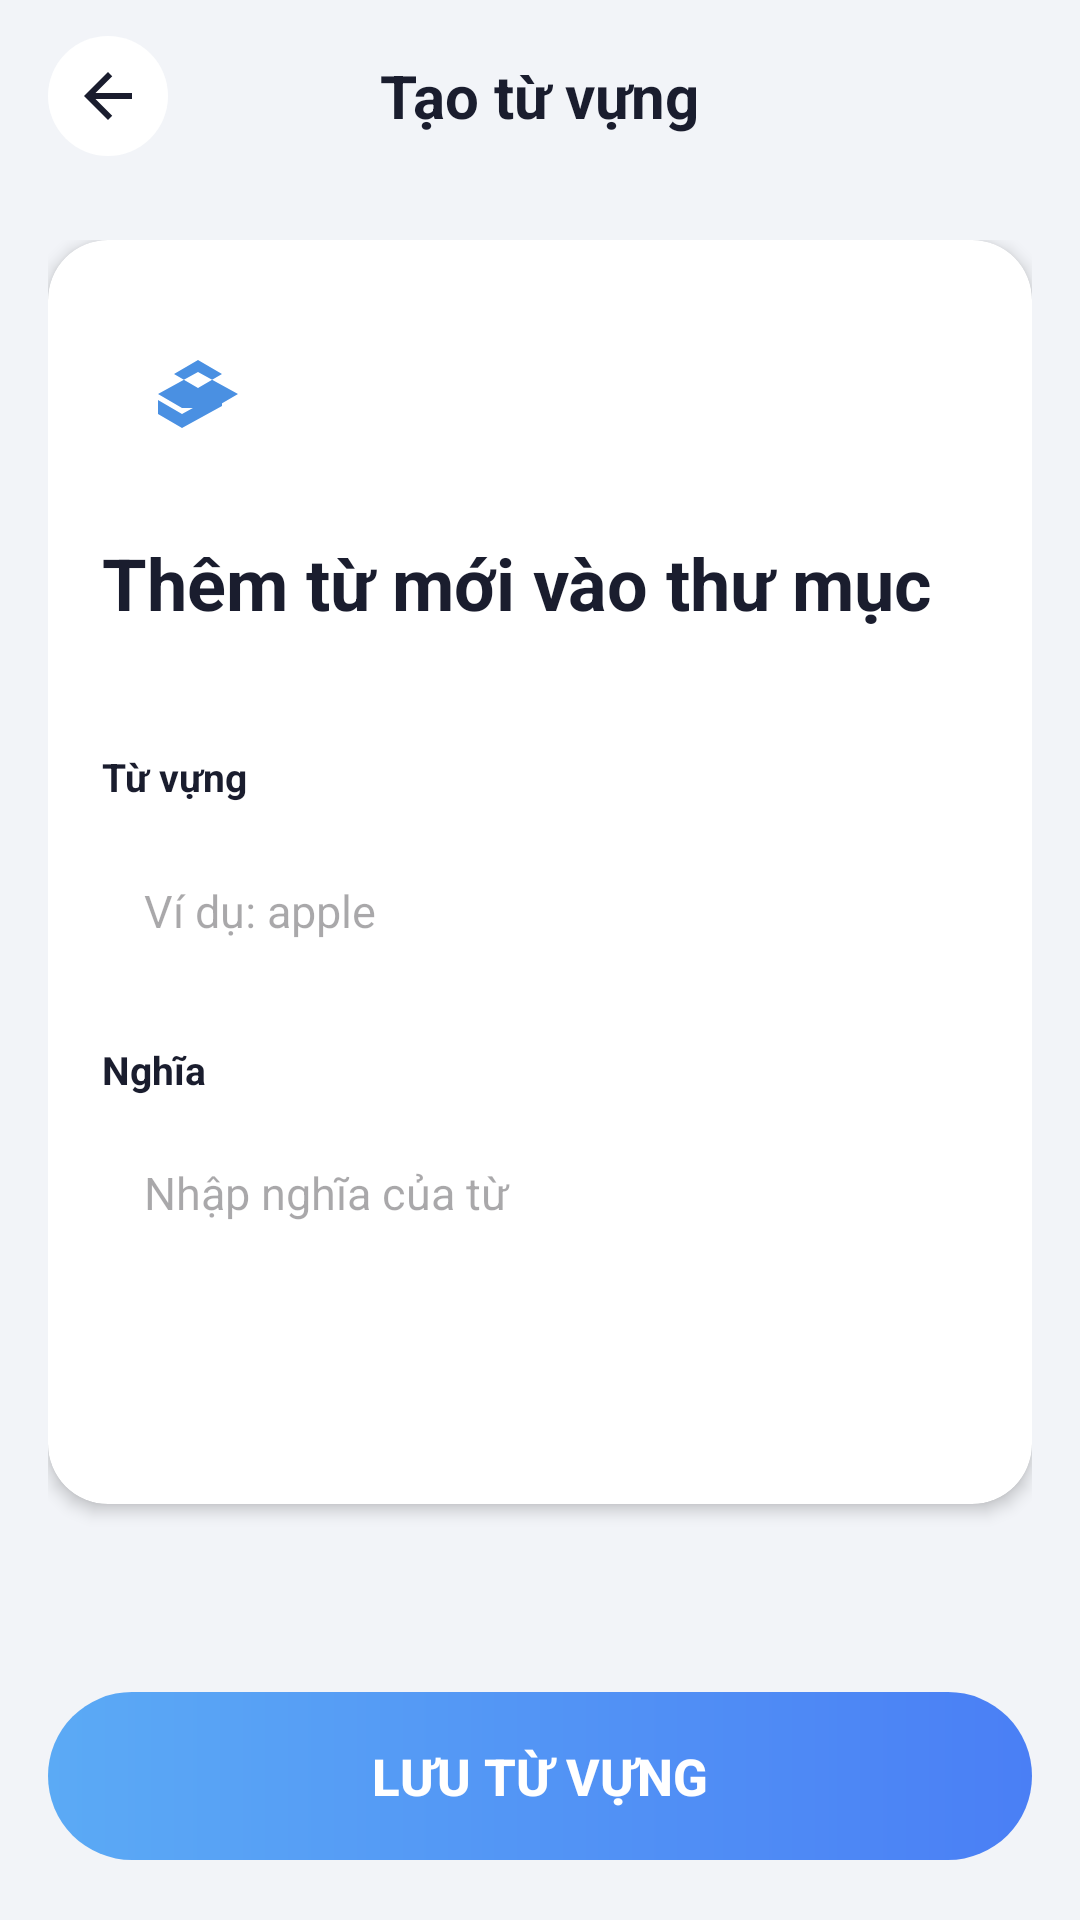

Locate icon controls on the screen. Image size 1080*1920, boxes as (x1, y1, x2, y2).
Back: (48, 36, 168, 156)
